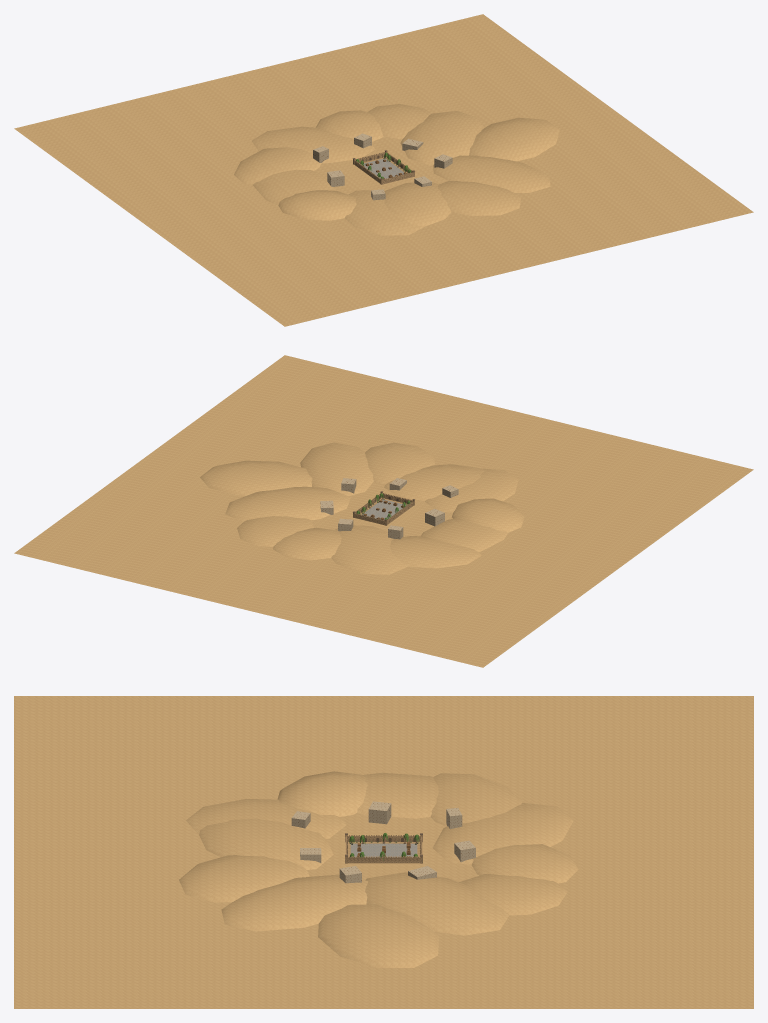
Rendered from desert_courtyard_textured.glb.glb.
The picture shows the model from 3 angles, top to bottom: view 1: azimuth 30°, elevation 25°; view 2: azimuth 150°, elevation 25°; view 3: azimuth 270°, elevation 25°; orthographic projection. The views are drawn at different scales.
Parts seen in each view (by area): view 1: Outer_Sand-col, Dune_01-col, Dune_12-col, Dune_02-col, Dune_09-col, Dune_03-col, Dune_04-col, Dune_08-col, Dune_06-col, Dune_05-col, Dune_07-col, Dune_11-col (+1 smaller); view 2: Outer_Sand-col, Dune_12-col, Dune_01-col, Dune_02-col, Dune_09-col, Dune_08-col, Dune_04-col, Dune_03-col, Dune_05-col, Dune_06-col, Dune_07-col, Dune_10-col (+1 smaller); view 3: Outer_Sand-col, Dune_01-col, Dune_12-col, Dune_02-col, Dune_09-col, Dune_04-col, Dune_03-col, Dune_08-col, Dune_06-col, Dune_10-col, Dune_11-col, Dune_05-col (+2 smaller).
Part boxes in pixels (left/top/right/bottom): Outer_Sand-col: left=14, top=14, right=753, bottom=326; Dune_01-col: left=469, top=117, right=559, bottom=161; Dune_12-col: left=400, top=111, right=483, bottom=165; Dune_02-col: left=433, top=155, right=550, bottom=192; Dune_09-col: left=252, top=126, right=375, bottom=163; Dune_03-col: left=437, top=181, right=521, bottom=215; Dune_04-col: left=384, top=182, right=451, bottom=226; Dune_08-col: left=234, top=147, right=321, bottom=184; Dune_06-col: left=278, top=190, right=356, bottom=220; Dune_05-col: left=344, top=190, right=424, bottom=235; Dune_07-col: left=253, top=169, right=334, bottom=204; Dune_11-col: left=367, top=104, right=431, bottom=139; Outer_Sand-col: left=14, top=355, right=753, bottom=667; Dune_12-col: left=225, top=486, right=350, bottom=521; Dune_01-col: left=200, top=460, right=312, bottom=495; Dune_02-col: left=300, top=442, right=373, bottom=495; Dune_09-col: left=331, top=525, right=407, bottom=574; Dune_08-col: left=389, top=536, right=481, bottom=568; Dune_04-col: left=384, top=464, right=484, bottom=500; Dune_03-col: left=365, top=442, right=435, bottom=484; Dune_05-col: left=425, top=468, right=518, bottom=512; Dune_06-col: left=452, top=498, right=524, bottom=532; Dune_07-col: left=421, top=518, right=507, bottom=552; Dune_10-col: left=273, top=527, right=341, bottom=560; Outer_Sand-col: left=14, top=696, right=753, bottom=1008; Dune_01-col: left=318, top=904, right=438, bottom=968; Dune_12-col: left=365, top=872, right=509, bottom=935; Dune_02-col: left=221, top=874, right=368, bottom=931; Dune_09-col: left=432, top=803, right=573, bottom=864; Dune_04-col: left=199, top=818, right=333, bottom=869; Dune_03-col: left=179, top=855, right=309, bottom=902; Dune_08-col: left=430, top=773, right=522, bottom=826; Dune_06-col: left=277, top=771, right=367, bottom=816; Dune_10-col: left=471, top=844, right=578, bottom=883; Dune_11-col: left=459, top=874, right=567, bottom=915; Dune_05-col: left=186, top=799, right=346, bottom=838.
Size of the model in its own units: 600 by 26.42 by 600.
Materials: 11 (11 with a texture image).
